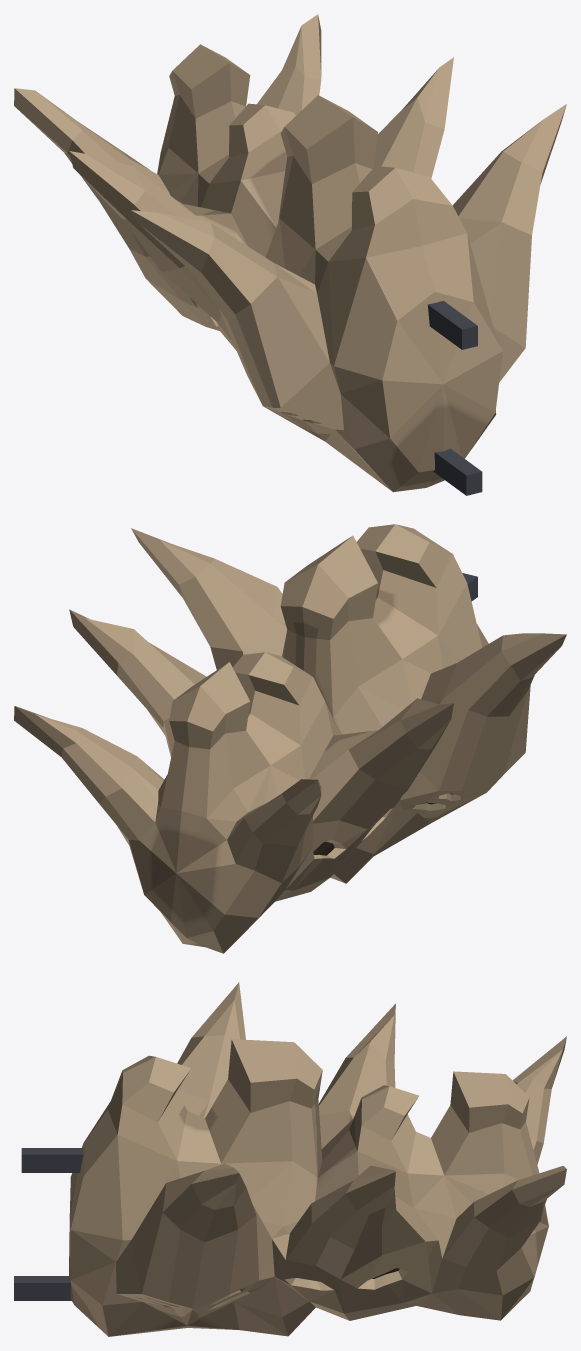
The model's file is SM_Veh_Ship_L_Rudder_03.fbx.
3 views of the same model, one above another, from view 1: azimuth 30°, elevation 25°; view 2: azimuth 150°, elevation 25°; view 3: azimuth 270°, elevation 25° (orthographic). The views are drawn at different scales.
Visible parts, largest first — view 1: SM_Veh_Ship_L_Rudder_03_Flap, SM_Veh_Ship_L_Rudder_03; view 2: SM_Veh_Ship_L_Rudder_03_Flap; view 3: SM_Veh_Ship_L_Rudder_03_Flap, SM_Veh_Ship_L_Rudder_03.
Part boxes in pixels (x1,y1,x2,y2): SM_Veh_Ship_L_Rudder_03_Flap: (14,14,566,492); SM_Veh_Ship_L_Rudder_03: (428,300,482,495); SM_Veh_Ship_L_Rudder_03_Flap: (14,524,566,953); SM_Veh_Ship_L_Rudder_03_Flap: (69,982,566,1336); SM_Veh_Ship_L_Rudder_03: (14,1148,83,1300).
Size of the model in its own units: 613 by 430 by 750.
